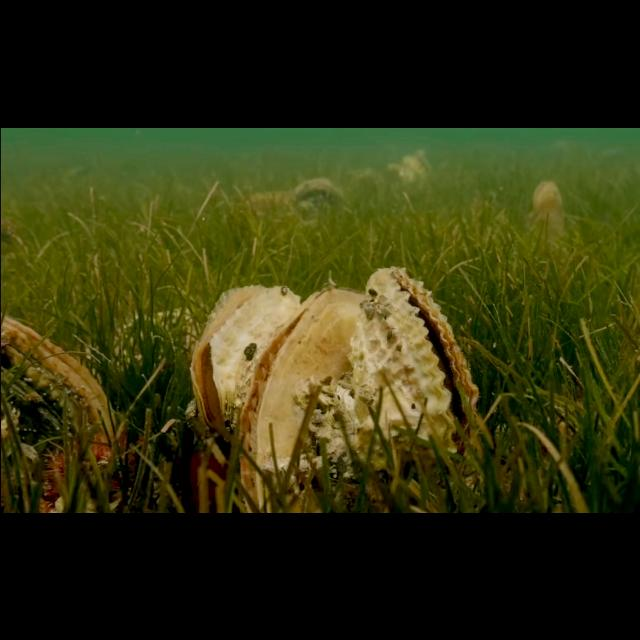Oyster-Closed: (0, 312, 120, 514), (288, 174, 348, 214)
Oyster-Open: (344, 266, 481, 500), (234, 285, 366, 513), (192, 283, 302, 455), (532, 178, 564, 226), (402, 147, 434, 185)
